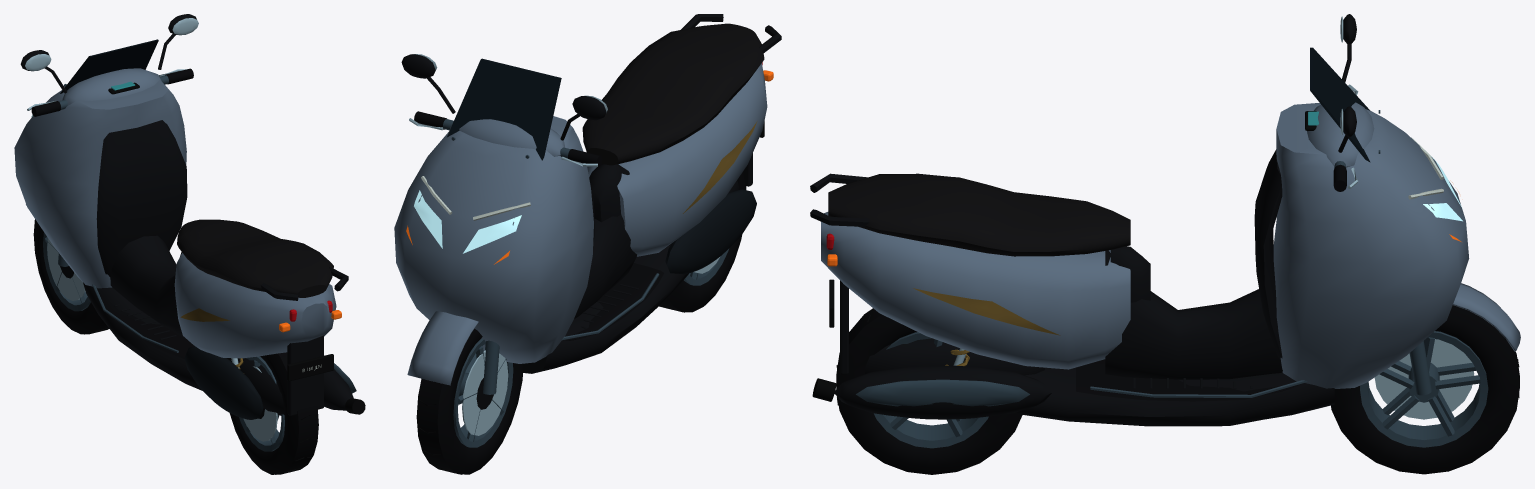
File: maxi_scooter_slate.glb
3 views of the same model, side by side, from view 1: azimuth 30°, elevation 25°; view 2: azimuth 150°, elevation 25°; view 3: azimuth 270°, elevation 25° (orthographic). The views are drawn at different scales.
Parts seen in each view (by area): view 1: Body_Mesh, Wheel_Rear_Mesh, Steering_Pivot_Mesh, Wheel_Front_Mesh; view 2: Body_Mesh, Wheel_Front_Mesh, Steering_Pivot_Mesh, Wheel_Rear_Mesh, Headlights_Mesh; view 3: Body_Mesh, Wheel_Front_Mesh, Wheel_Rear_Mesh, Steering_Pivot_Mesh, Headlights_Mesh.
Boxes of the visible parts, box(x1,y1,x2,y2) form: Body_Mesh: box(14, 39, 365, 419); Wheel_Rear_Mesh: box(229, 352, 318, 474); Steering_Pivot_Mesh: box(20, 14, 198, 266); Wheel_Front_Mesh: box(33, 219, 109, 334); Body_Mesh: box(394, 14, 781, 373); Wheel_Front_Mesh: box(416, 328, 523, 474); Steering_Pivot_Mesh: box(401, 54, 607, 394); Wheel_Rear_Mesh: box(659, 172, 746, 312); Headlights_Mesh: box(414, 176, 530, 253); Body_Mesh: box(810, 47, 1469, 426); Wheel_Front_Mesh: box(1331, 305, 1519, 474); Wheel_Rear_Mesh: box(836, 308, 1022, 474); Steering_Pivot_Mesh: box(1305, 14, 1520, 395); Headlights_Mesh: box(1408, 137, 1462, 221).
Bounding box in the file's own units: 0.72 × 1.23 × 1.95.
Materials: 2 (1 with a texture image).
